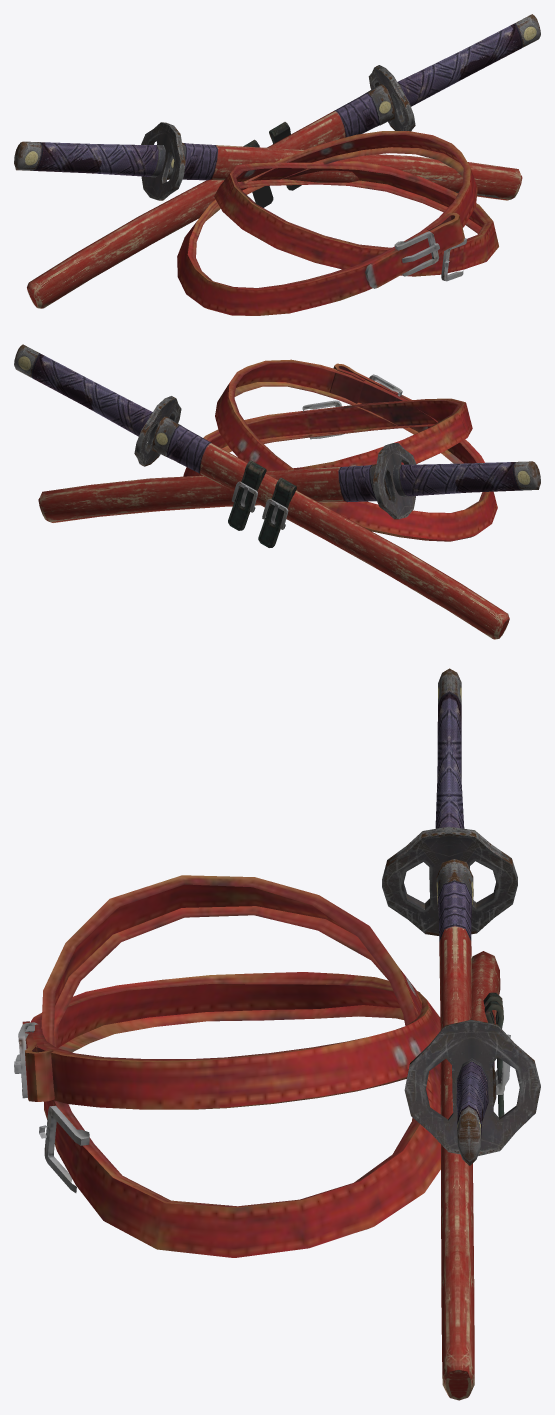
The model's file is BackSword2.fbx.
3 views of the same model, one above another, from view 1: azimuth 30°, elevation 25°; view 2: azimuth 150°, elevation 25°; view 3: azimuth 270°, elevation 25° (orthographic). The views are drawn at different scales.
Visible parts, largest first — view 1: BackSword2; view 2: BackSword2; view 3: BackSword2.
Boxes of the visible parts, left/top/right/bottom form: BackSword2: left=14, top=14, right=540, bottom=315; BackSword2: left=14, top=344, right=540, bottom=639; BackSword2: left=14, top=668, right=540, bottom=1400.
Size of the model in its own units: 2903 by 951 by 1426.
